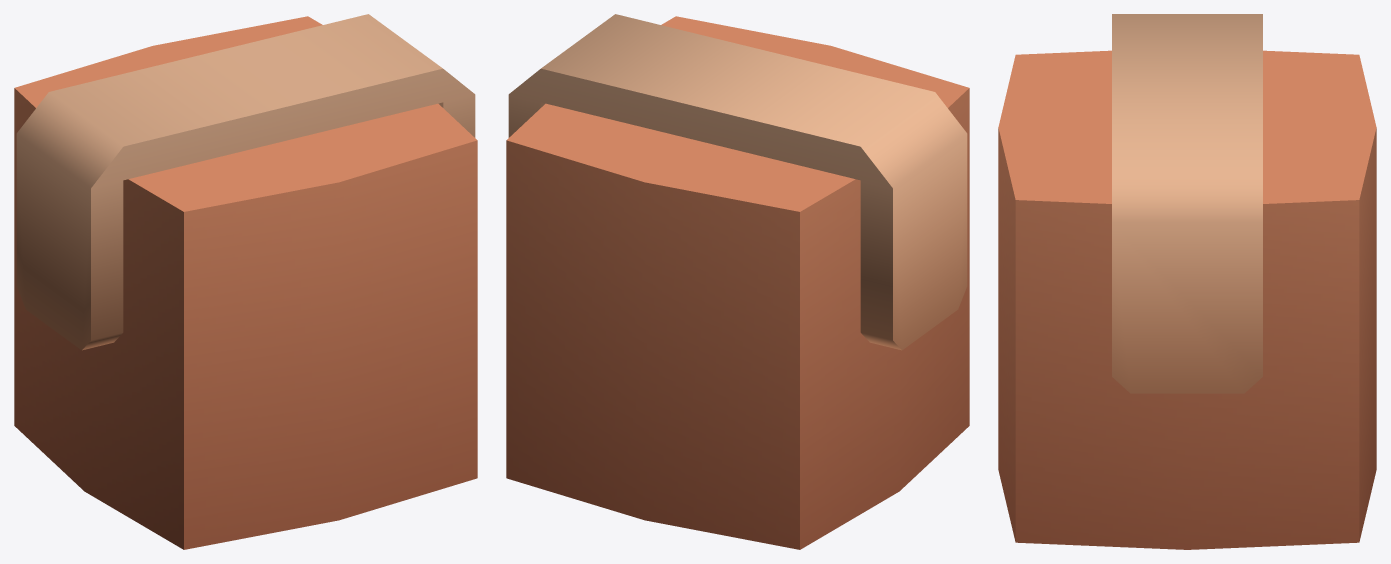
The model's file is box-small.glb.
3 views of the same model, side by side, from view 1: azimuth 30°, elevation 25°; view 2: azimuth 150°, elevation 25°; view 3: azimuth 270°, elevation 25° (orthographic).
Visible parts, largest first — view 1: box-small; view 2: box-small; view 3: box-small.
Boxes of the visible parts, x1=… form: box-small: x1=14, y1=14, x2=477, y2=549; box-small: x1=506, y1=14, x2=969, y2=549; box-small: x1=998, y1=14, x2=1376, y2=549.
Bounding box in the file's own units: 0.595 × 0.55 × 0.5.
